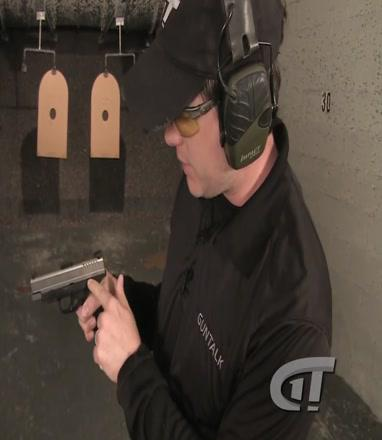pistol: (28, 251, 112, 338)
